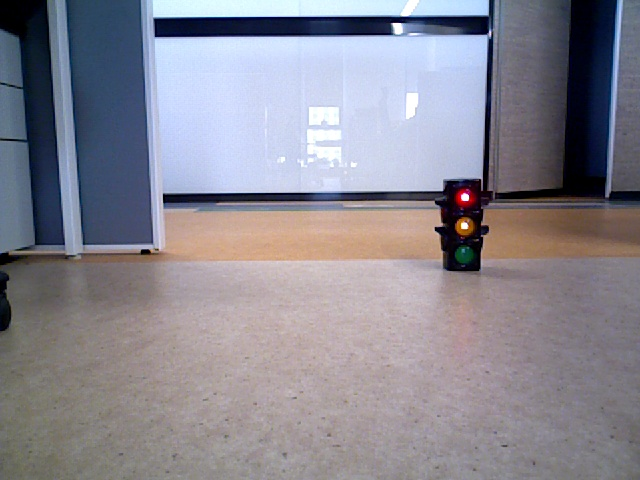red: (443, 182, 482, 270)
